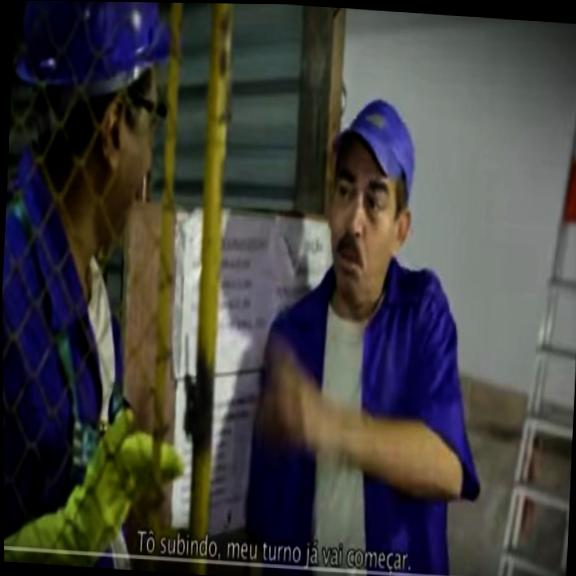no_safety_vest: (237, 243, 496, 576), (1, 133, 163, 570)
